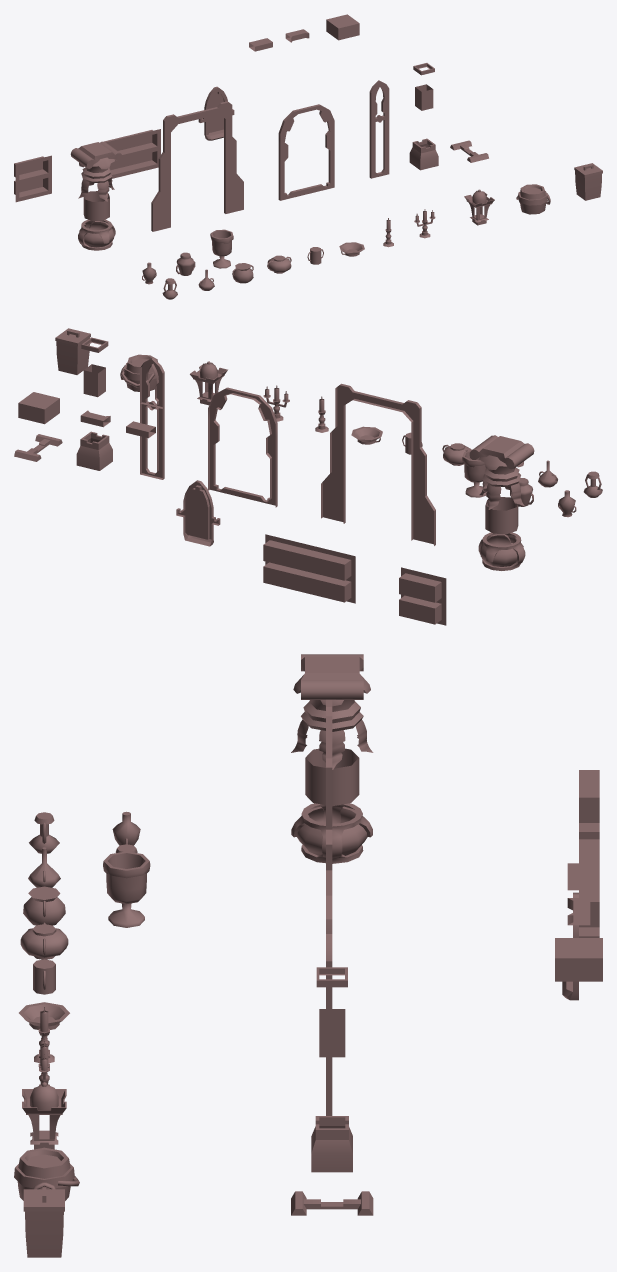
The model's file is Decoracion agrupacion 1.fbx.
3 views of the same model, one above another, from view 1: azimuth 30°, elevation 25°; view 2: azimuth 150°, elevation 25°; view 3: azimuth 270°, elevation 25° (orthographic). The views are drawn at different scales.
Visible parts, largest first — view 1: Estante_grande, Pilar_punta, Estante_pequenio, Pilar_base, Ventana, Barril, Columna_pequenia_base, Jarron_4, Punta_pilar_pequenio, Pilar_centro, Caja, Incienso (+3 smaller); view 2: Estante_grande, Pilar_punta, Estante_pequenio, Ventana, Pilar_base, Columna_pequenia_base, Pilar_centro, Punta_pilar_pequenio, Caja, Incienso, Barril, Jarron_4 (+16 smaller); view 3: Pilar_punta, Pilar_base, Jarron_4, Pilar_centro, Barril, Columna_pequenia_base, Punta_pilar_pequenio, Incienso, Caja, Estante_grande, Estante_pequenio, Columna_pequenia_centro (+5 smaller).
Boxes of the visible parts, bbox=[...] form: Estante_grande: bbox=[99, 129, 160, 178]; Pilar_punta: bbox=[70, 141, 122, 201]; Estante_pequenio: bbox=[14, 155, 51, 202]; Pilar_base: bbox=[78, 219, 115, 250]; Ventana: bbox=[198, 86, 234, 140]; Barril: bbox=[516, 184, 550, 214]; Columna_pequenia_base: bbox=[409, 138, 438, 170]; Jarron_4: bbox=[210, 229, 233, 268]; Punta_pilar_pequenio: bbox=[326, 14, 359, 40]; Pilar_centro: bbox=[83, 191, 109, 220]; Caja: bbox=[575, 170, 602, 200]; Incienso: bbox=[464, 189, 494, 225]; Estante_grande: bbox=[263, 534, 355, 603]; Pilar_punta: bbox=[469, 435, 534, 509]; Estante_pequenio: bbox=[399, 567, 446, 625]; Ventana: bbox=[176, 480, 220, 546]; Pilar_base: bbox=[478, 532, 525, 570]; Columna_pequenia_base: bbox=[76, 431, 112, 470]; Pilar_centro: bbox=[485, 497, 518, 534]; Punta_pilar_pequenio: bbox=[18, 392, 59, 424]; Caja: bbox=[56, 338, 89, 374]; Incienso: bbox=[190, 361, 227, 405]; Barril: bbox=[120, 354, 157, 391]; Jarron_4: bbox=[462, 449, 486, 497]; Pilar_punta: bbox=[291, 654, 373, 769]; Pilar_base: bbox=[291, 803, 372, 863]; Jarron_4: bbox=[103, 851, 150, 927]; Pilar_centro: bbox=[305, 748, 359, 806]; Barril: bbox=[14, 1147, 79, 1200]; Columna_pequenia_base: bbox=[311, 1116, 352, 1172]; Punta_pilar_pequenio: bbox=[555, 938, 602, 981]; Incienso: bbox=[22, 1082, 66, 1149]; Caja: bbox=[25, 1211, 63, 1257]; Estante_grande: bbox=[579, 839, 599, 937]; Estante_pequenio: bbox=[579, 770, 599, 839]; Columna_pequenia_centro: bbox=[319, 1009, 345, 1057].
Size of the model in its own units: 24.5 by 5.83 by 14.33.
